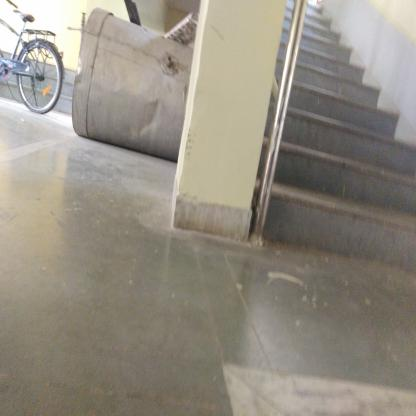stairs: (300, 62, 364, 267)
